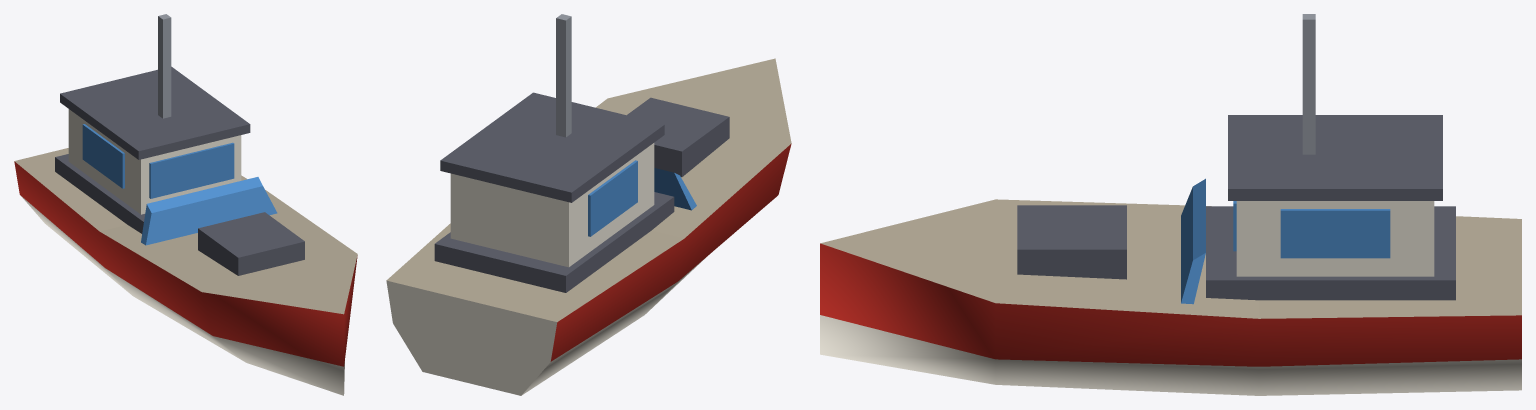
Rendered from Kit_Boat.glb.
3 views of the same model, side by side, from view 1: azimuth 30°, elevation 25°; view 2: azimuth 150°, elevation 25°; view 3: azimuth 270°, elevation 25° (orthographic). The views are drawn at different scales.
Visible parts, largest first — view 1: Kit_Boat_A, Kit_Boat_B; view 2: Kit_Boat_A, Kit_Boat_B; view 3: Kit_Boat_A, Kit_Boat_B.
Boxes of the visible parts, x1=… form: Kit_Boat_A: x1=14, y1=14, x2=357, y2=395; Kit_Boat_B: x1=55, y1=154, x2=277, y2=245; Kit_Boat_A: x1=386, y1=14, x2=791, y2=395; Kit_Boat_B: x1=434, y1=168, x2=696, y2=292; Kit_Boat_A: x1=820, y1=14, x2=1521, y2=395; Kit_Boat_B: x1=1181, y1=178, x2=1455, y2=304.
Bounding box in the file's own units: 6 × 8.7 × 16.
